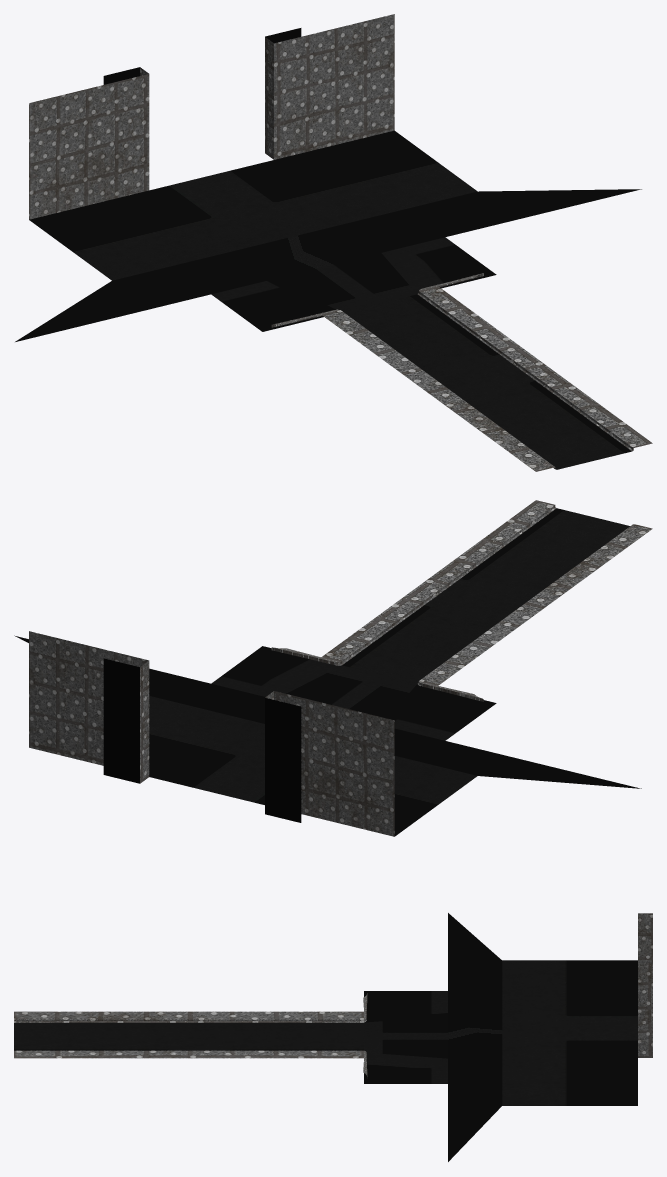
Rendered from WorldMap.fbx.
3 renders of one model, top to bottom at view 1: azimuth 30°, elevation 25°; view 2: azimuth 150°, elevation 25°; view 3: azimuth 270°, elevation 25°, orthographic. The views are drawn at different scales.
Parts seen in each view (by area): view 1: Plane; view 2: Plane; view 3: Plane.
Boxes of the visible parts, left/top/right/bottom form: Plane: left=15, top=14, right=652, bottom=471; Plane: left=14, top=500, right=652, bottom=836; Plane: left=14, top=913, right=652, bottom=1161.
Bounding box in the file's own units: 2467 × 458 × 2665.
